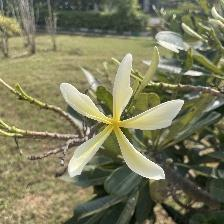champaka: (59, 54, 188, 186)
